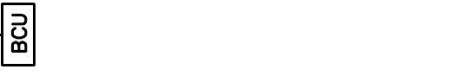BCU: (0, 2, 36, 67)
